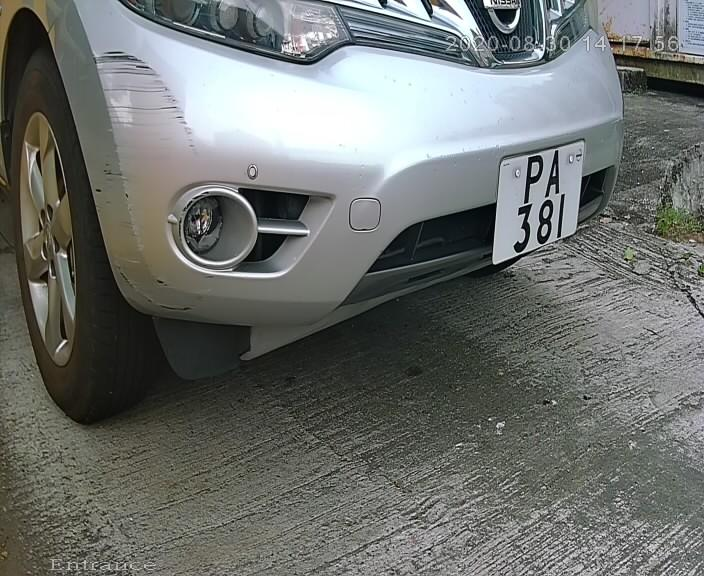Car: (4, 1, 679, 389)
License Plate: (481, 134, 595, 265)
